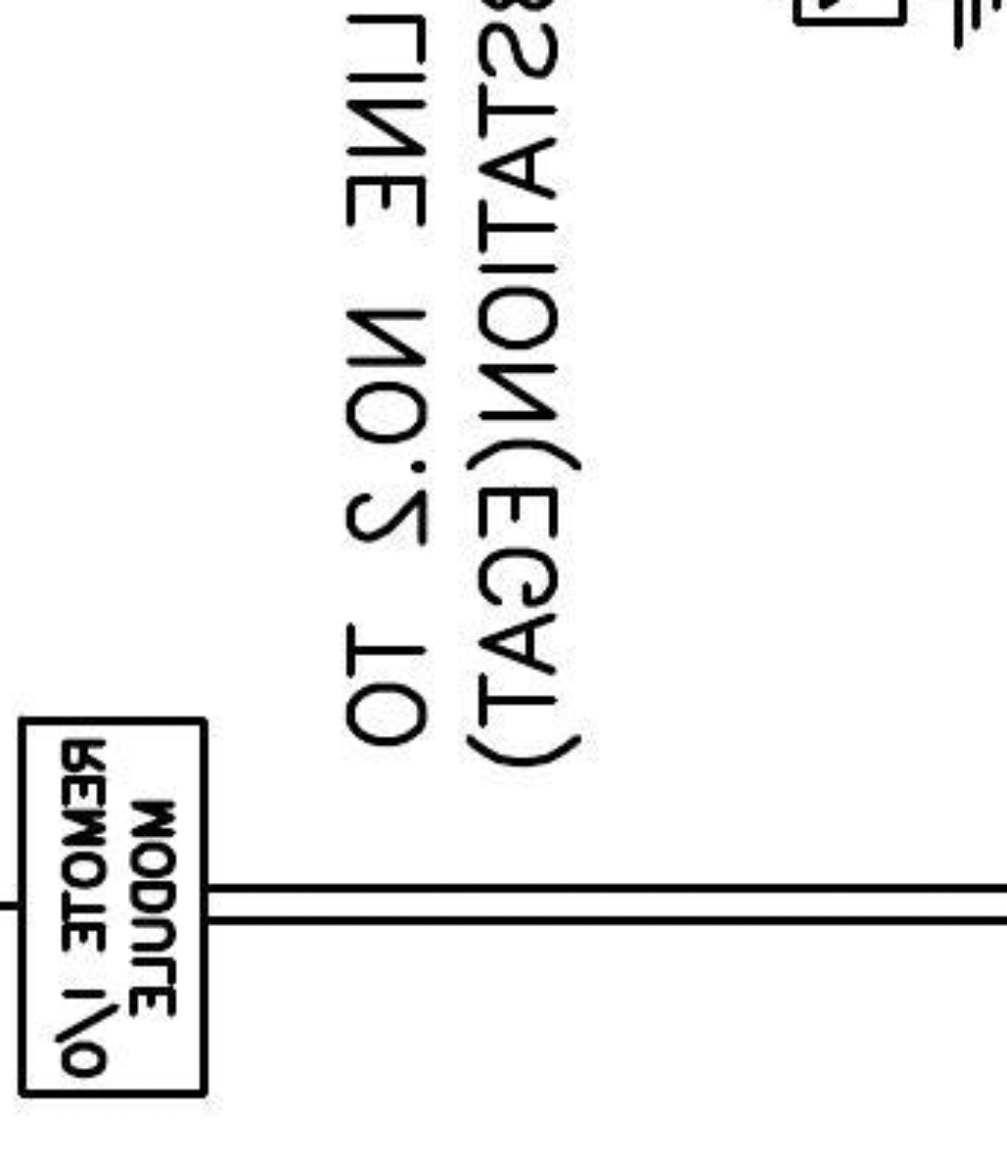remote_io_module: (16, 715, 209, 1100)
